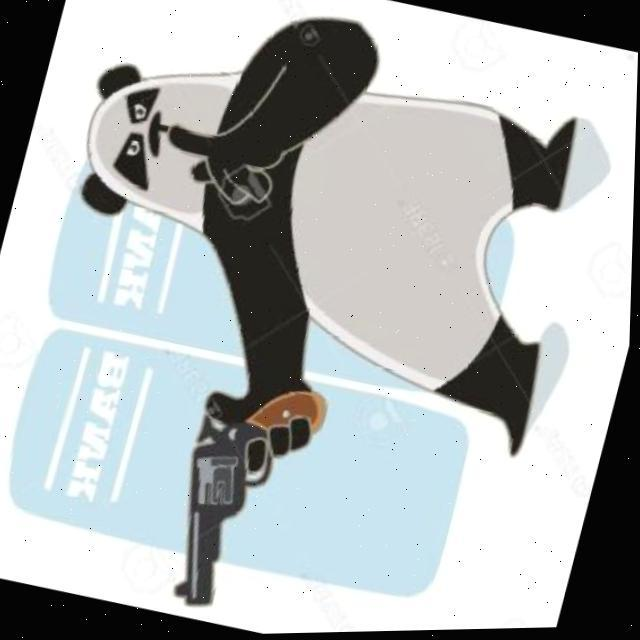gun: (157, 367, 336, 625)
